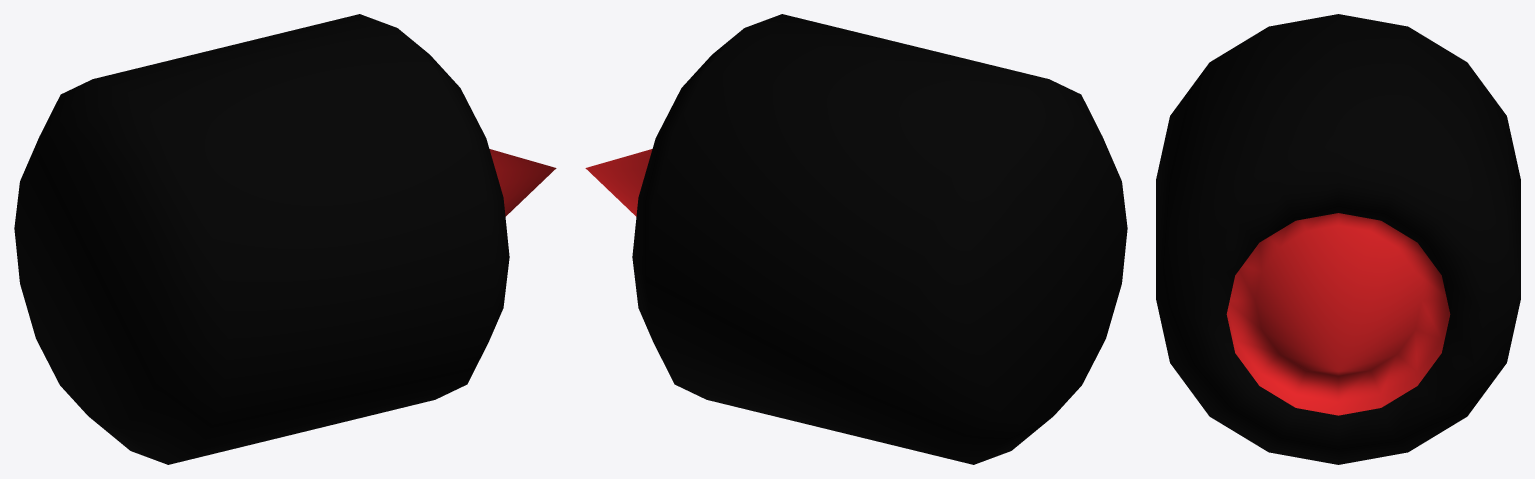
Rendered from wheel_2.fbx.
The picture shows the model from 3 angles, left to right: view 1: azimuth 30°, elevation 25°; view 2: azimuth 150°, elevation 25°; view 3: azimuth 270°, elevation 25°; orthographic projection. The views are drawn at different scales.
Visible parts, largest first — view 1: Wheels_back.001; view 2: Wheels_back.001; view 3: Wheels_back.001.
Part boxes in pixels (x1=…): Wheels_back.001: x1=14, y1=14, x2=556, y2=464; Wheels_back.001: x1=585, y1=14, x2=1127, y2=464; Wheels_back.001: x1=1156, y1=14, x2=1520, y2=464.
Size of the model in its own units: 100 by 73.2 by 73.2.
